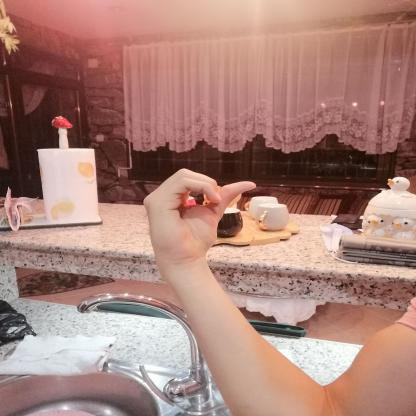WAW: (130, 160, 267, 272)
